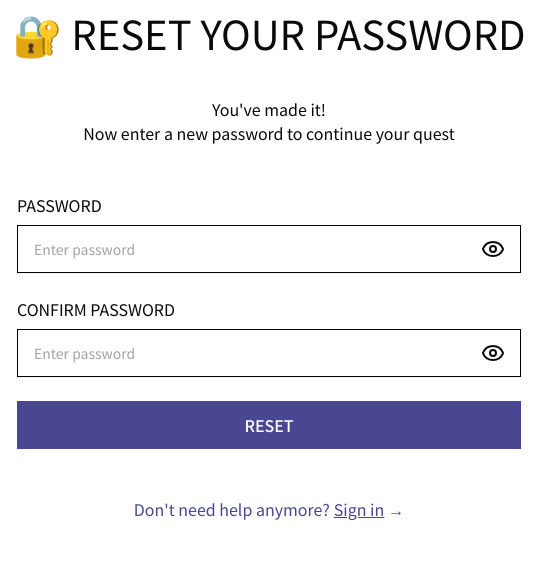
it: ResetPassword Page › Form Validation › shows validation error for empty password
The width and height of the screenshot is (541, 573).
Check: the password field labelled "Password" is shown, box 17,225 -> 521,273
Click the button "RESET": (269, 425) 17,401 -> 521,449
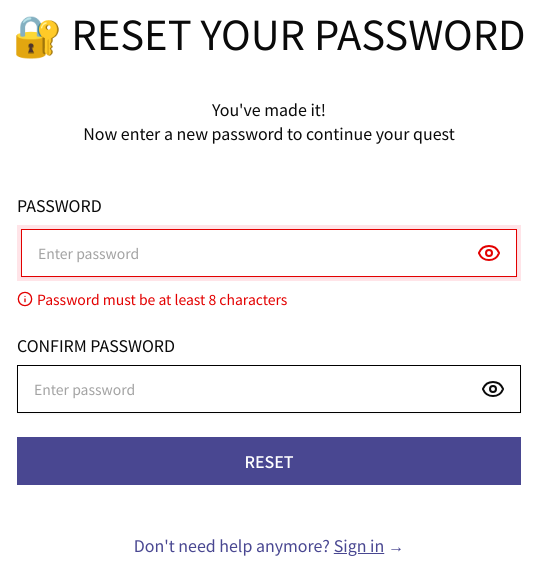
Check: the text "Password must be at least 8 characters" is shown, box 37,289 -> 287,309
